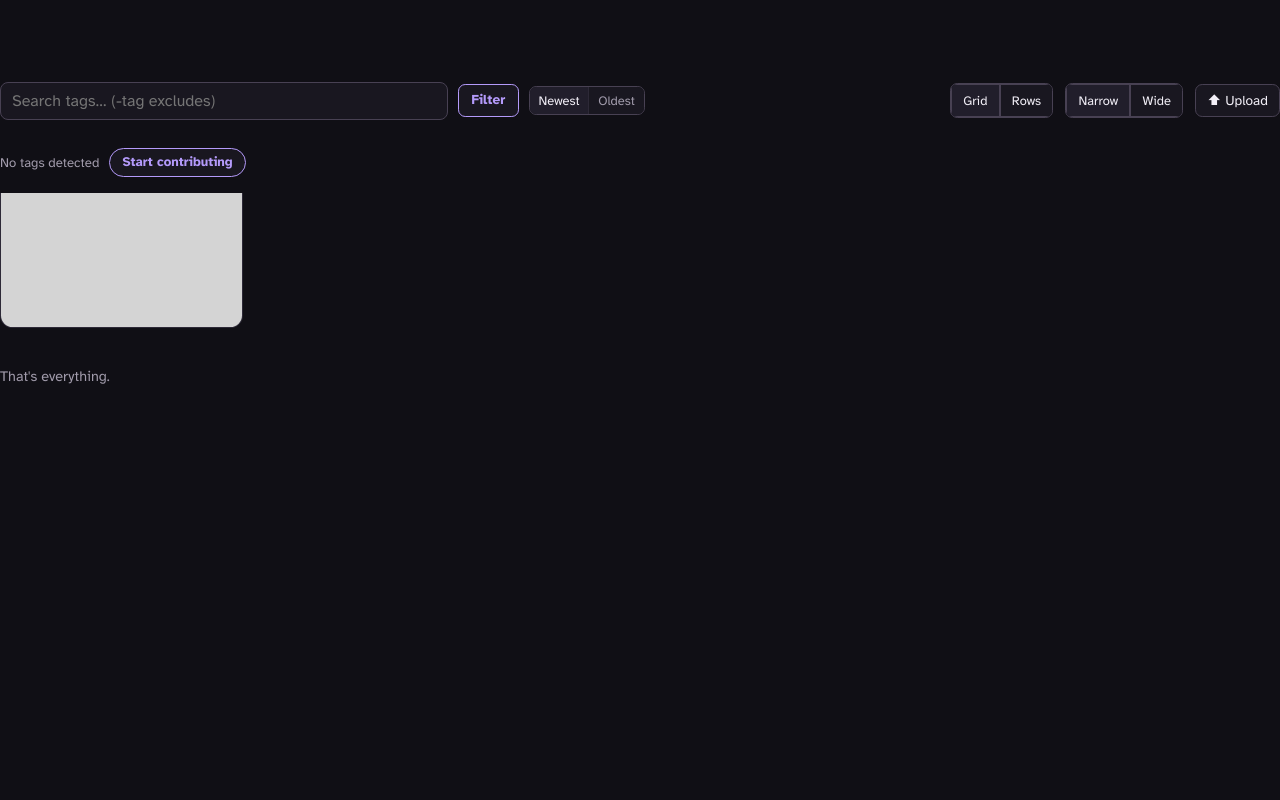
Test: image board states › opens the upload dialog from Start contributing when signed in
The width and height of the screenshot is (1280, 800).
Expected: the text "No tags detected" is shown, [0,154,99,170]
Click the button "Start contributing": (178, 163) [109,148,246,178]
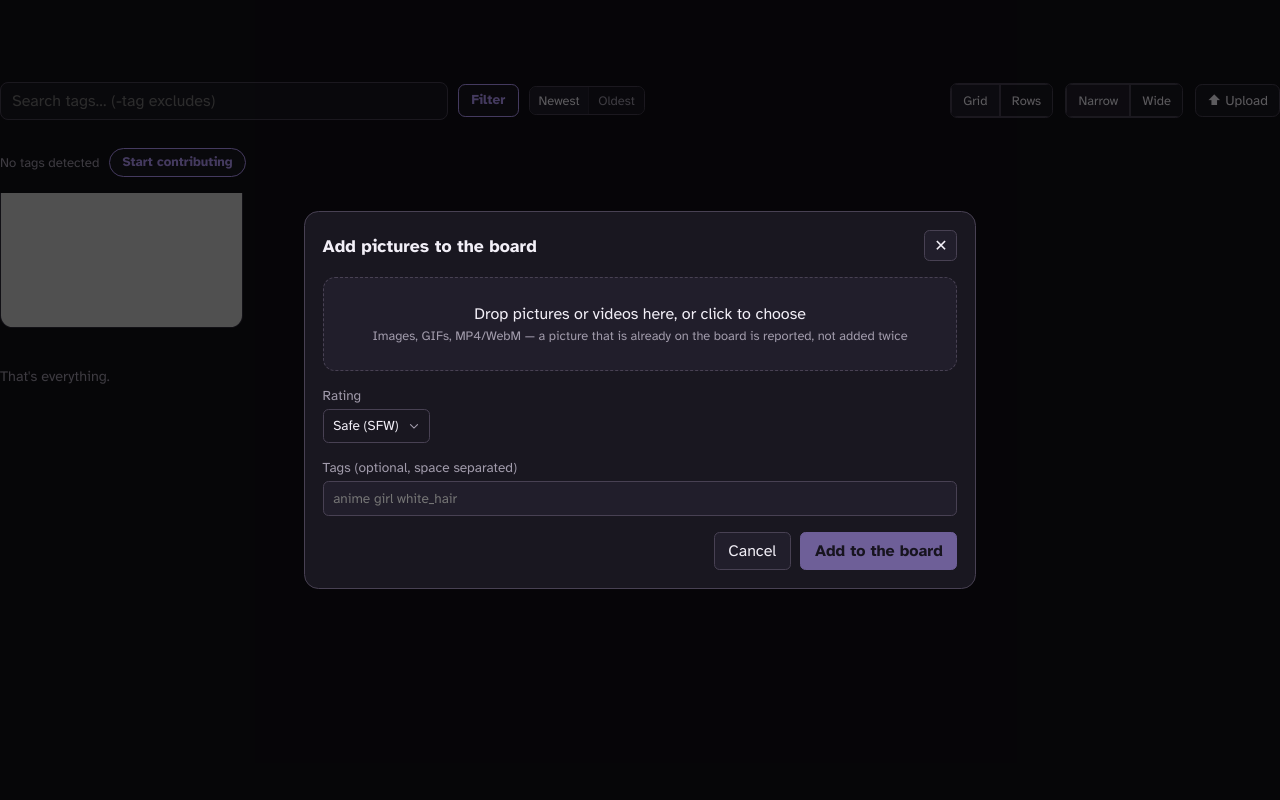
Now the dialog named "Upload pictures" is shown, box [304,211,976,589]
